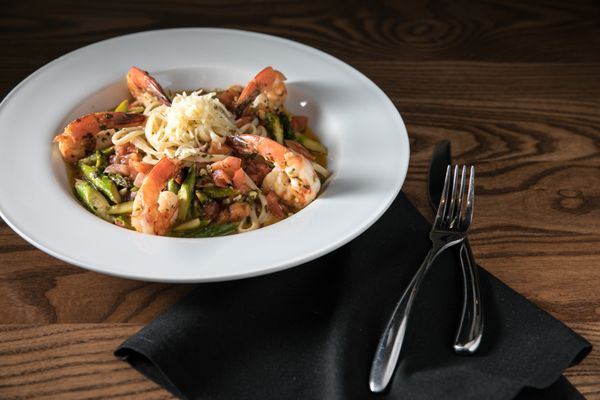sandwich: (426, 139, 451, 229)
sushi: (2, 19, 409, 282)
